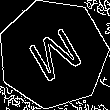M_SE: (20, 21, 86, 88)
